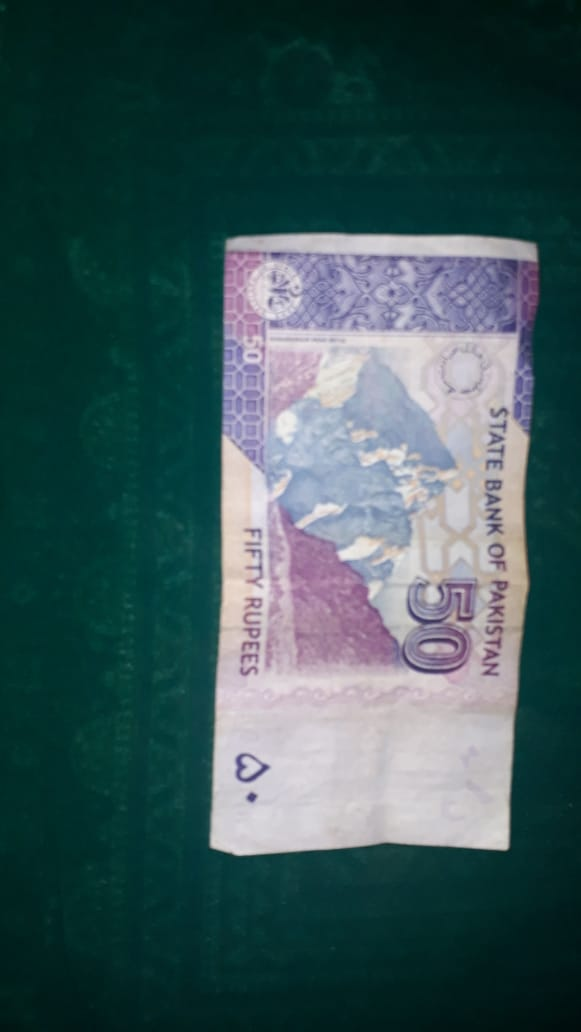50 rupee: (205, 204, 532, 880)
